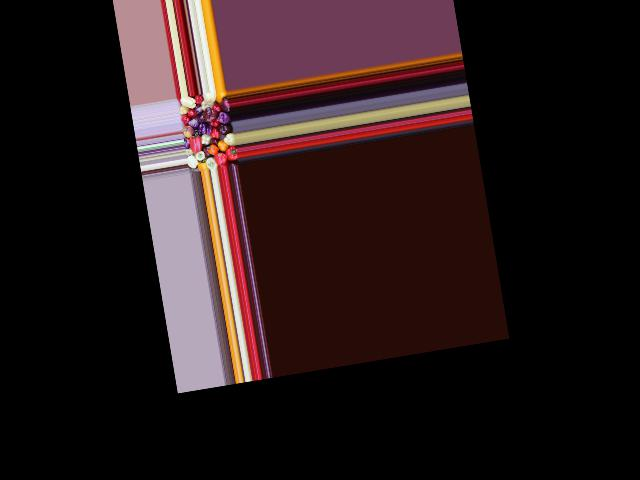bell_pepper: (206, 155, 217, 169)
